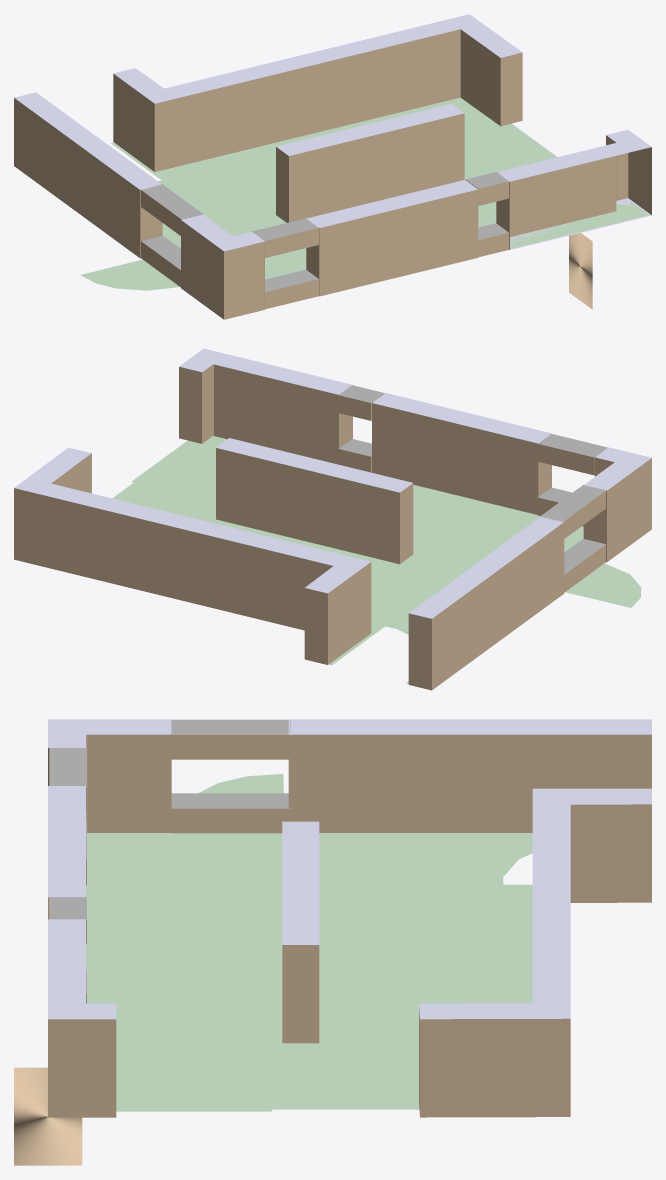
Rendered from floorplan37.gltf.
3 renders of one model, top to bottom at view 1: azimuth 30°, elevation 25°; view 2: azimuth 150°, elevation 25°; view 3: azimuth 270°, elevation 25°, orthographic. The views are drawn at different scales.
Visible parts, largest first — view 1: Box2Wall12, Floor, Box1Wall7, Box3Wall19, Box4Wall26, Box0Wall5, VertWalls5, Box5Wall34, Box2Wall11, VertWalls9, Box2Wall13, Box5Wall27 (+21 smaller); view 2: Box2Wall16, Floor, Box1Wall9, Box3Wall21, Box4Wall26, Box0Wall5, VertWalls5, Box5Wall34, Box2Wall11, VertWalls9, VertWalls3, VertWalls1 (+17 smaller); view 3: Floor, Box4Wall24, Box2Wall15, VertWalls5, Box5Wall32, Box2Wall17, Box0Wall1, VertWalls9, Box0Wall0, VertWalls3, VertWalls1, VertWalls7 (+8 smaller).
Boxes of the visible parts, x1,y1,x2,y2 form: Box2Wall12: [154, 29, 460, 171]; Floor: [80, 97, 648, 290]; Box1Wall7: [289, 113, 464, 222]; Box3Wall19: [319, 189, 478, 296]; Box4Wall26: [14, 98, 140, 257]; Box0Wall5: [509, 156, 615, 236]; VertWalls5: [113, 14, 521, 103]; Box5Wall34: [181, 220, 223, 319]; Box2Wall11: [113, 74, 154, 171]; VertWalls9: [14, 92, 160, 189]; Box2Wall13: [460, 29, 500, 125]; Box5Wall27: [224, 241, 264, 319]; Box2Wall16: [14, 488, 332, 630]; Floor: [112, 436, 641, 683]; Box1Wall9: [216, 448, 399, 564]; Box3Wall21: [372, 403, 538, 514]; Box4Wall26: [432, 522, 564, 689]; Box0Wall5: [214, 364, 338, 464]; VertWalls5: [14, 447, 370, 593]; Box5Wall34: [607, 458, 651, 561]; Box2Wall11: [328, 562, 371, 664]; VertWalls9: [409, 516, 563, 618]; VertWalls3: [216, 438, 412, 492]; VertWalls1: [179, 348, 352, 394]; Floor: [86, 774, 532, 1111]; Box4Wall24: [288, 734, 651, 832]; Box2Wall15: [420, 1018, 570, 1117]; VertWalls5: [419, 788, 651, 1019]; Box5Wall32: [87, 734, 171, 832]; Box2Wall17: [570, 804, 651, 902]; Box0Wall1: [48, 1019, 116, 1117]; VertWalls9: [288, 719, 651, 734]; Box0Wall0: [14, 1067, 82, 1165]; VertWalls3: [282, 821, 319, 944]; VertWalls1: [48, 919, 116, 1019]; VertWalls7: [48, 786, 85, 897].
Bounding box in the file's own units: 7.5 × 2 × 5.88.
